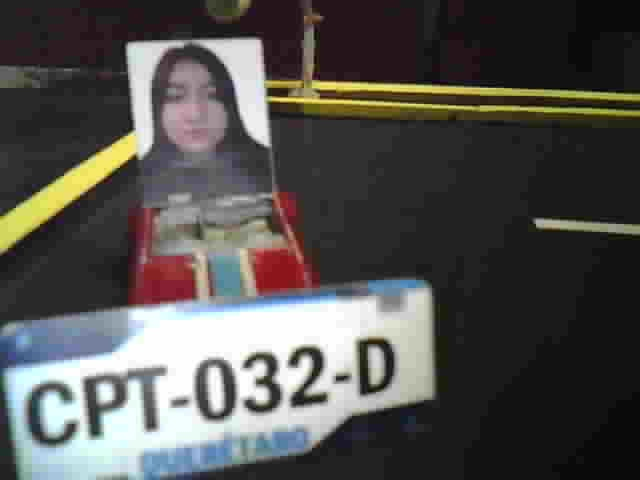PLACA: (1, 274, 440, 477)
ROSTRO: (139, 42, 271, 196)
